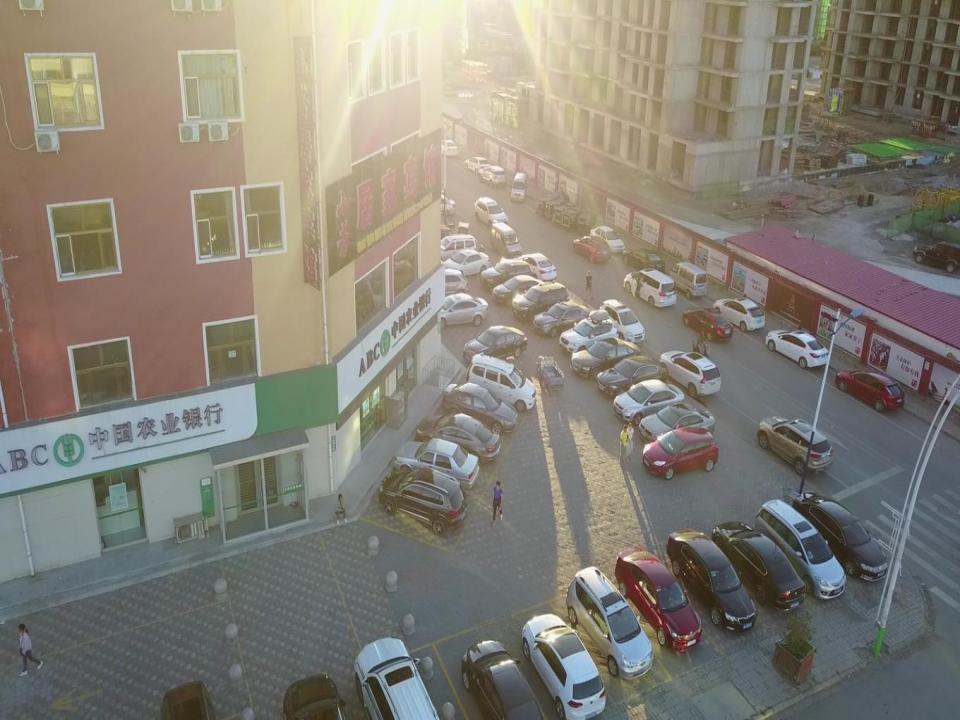car: (667, 528, 757, 631), (521, 615, 608, 720), (710, 518, 806, 612), (794, 490, 890, 582), (613, 552, 701, 648), (356, 633, 442, 720), (462, 642, 549, 720), (377, 466, 468, 536), (394, 437, 478, 494), (758, 416, 832, 476), (443, 380, 517, 436), (416, 413, 500, 461), (642, 426, 719, 478), (640, 401, 717, 445), (614, 380, 686, 424), (834, 370, 905, 414), (659, 350, 721, 400), (596, 355, 668, 396), (570, 337, 640, 379), (766, 326, 830, 370), (465, 323, 528, 365), (559, 314, 619, 356), (532, 302, 596, 338), (596, 300, 646, 346), (511, 282, 568, 321), (714, 296, 767, 332), (429, 295, 489, 326), (491, 275, 549, 306), (683, 305, 732, 341), (913, 239, 960, 274), (482, 258, 534, 288), (441, 248, 491, 275), (473, 195, 508, 231), (623, 248, 665, 275), (514, 254, 554, 282), (428, 269, 468, 296), (574, 235, 610, 262), (590, 226, 625, 252), (417, 195, 455, 217), (480, 166, 506, 188), (465, 156, 490, 175), (437, 138, 459, 158)
van: (566, 570, 654, 678), (754, 501, 843, 601), (469, 356, 534, 413), (624, 268, 676, 307), (670, 262, 707, 299), (436, 234, 475, 264), (490, 223, 522, 257), (511, 173, 527, 200)
